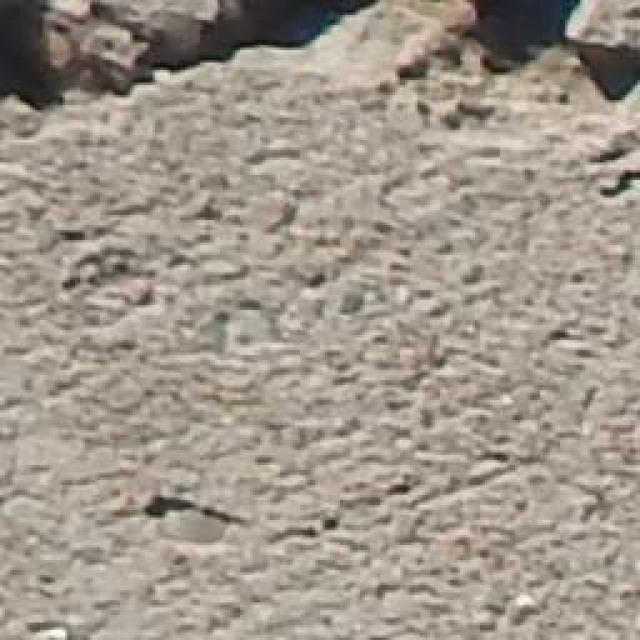concrete-crack: (0, 0, 404, 116), (382, 2, 639, 118), (141, 487, 264, 529), (597, 167, 640, 199), (583, 145, 632, 165)
